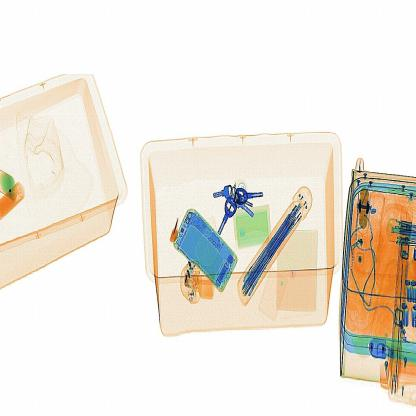wrench: (167, 217, 186, 246)
